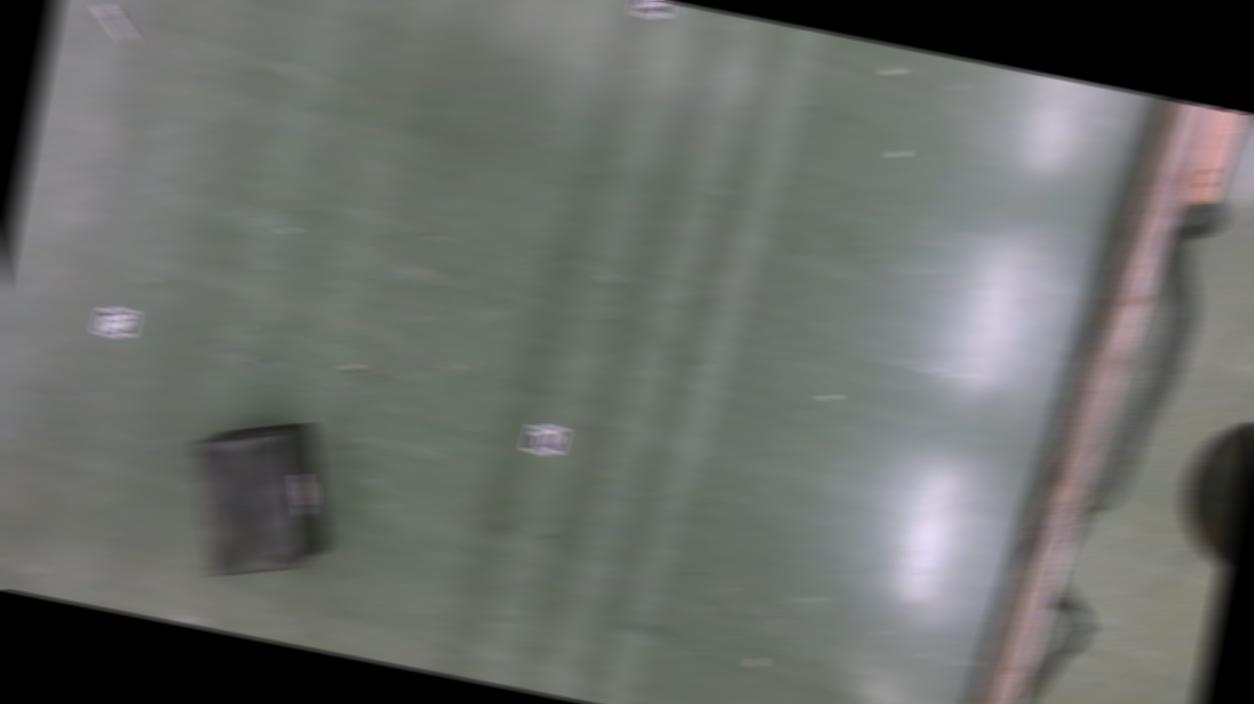probes: (90, 2, 144, 47)
rako: (167, 402, 353, 597)
